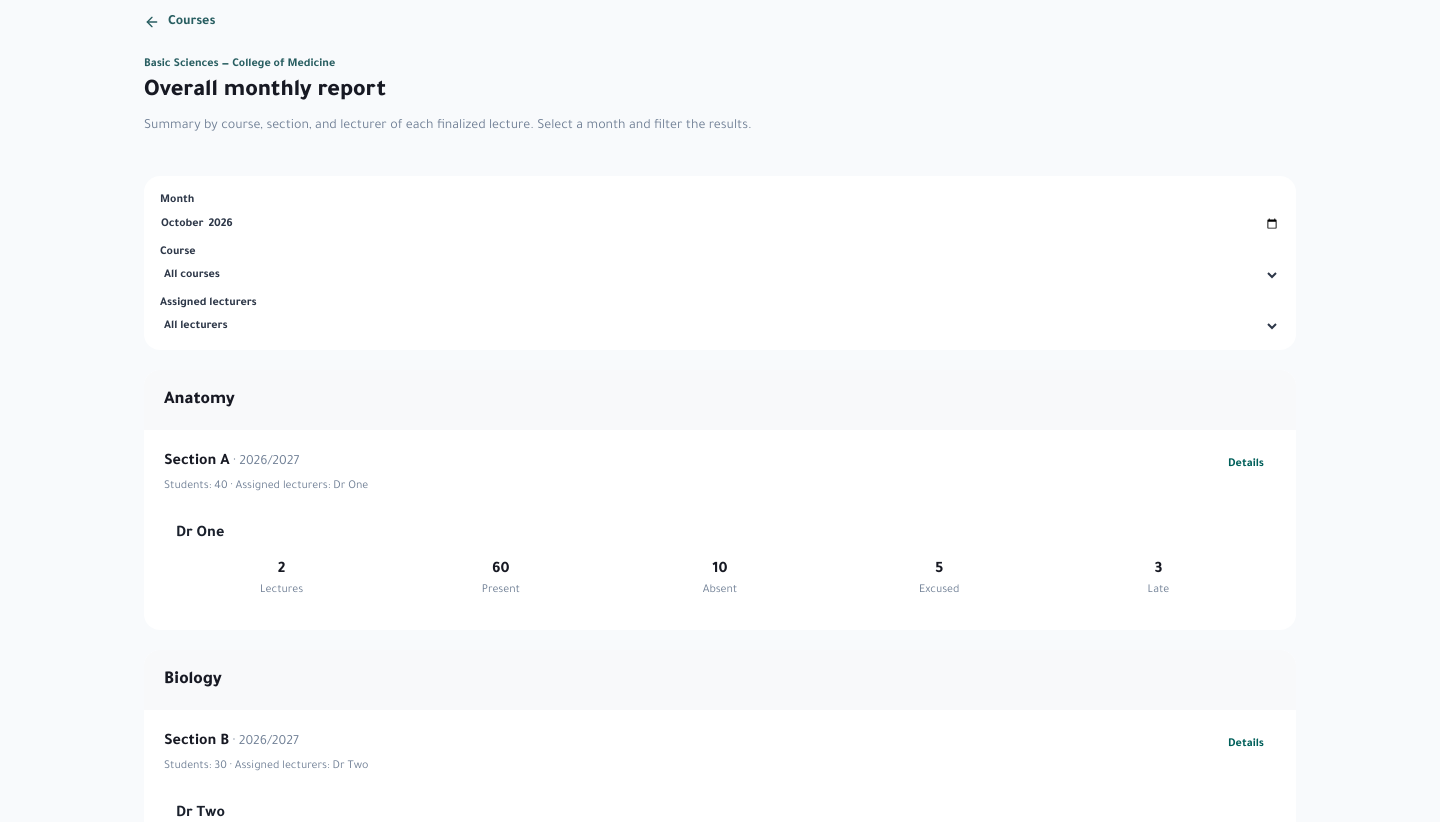
Test: groups the monthly report by course, section and lecture owner with filters
Expected: the heading "Anatomy" is shown, [164,391,235,409]
Expected: the heading "Biology" is shown, [164,671,222,689]
Select "Biology" in the dropdown labelled "Course": (720, 275) [160,268,1280,282]
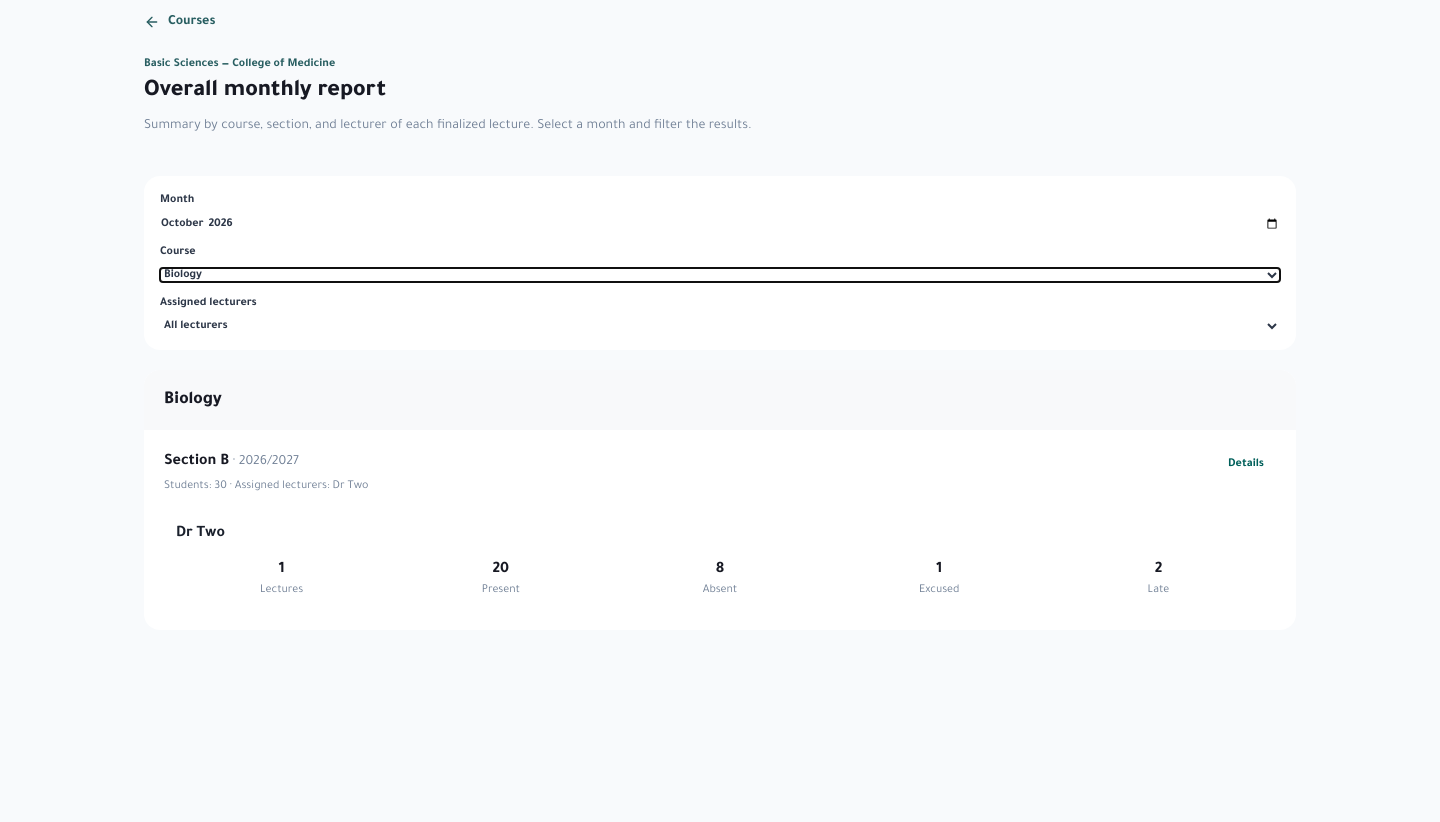
Expected: the heading "Biology" is shown, [164,391,222,409]
Expected: the heading "Anatomy" is gone
